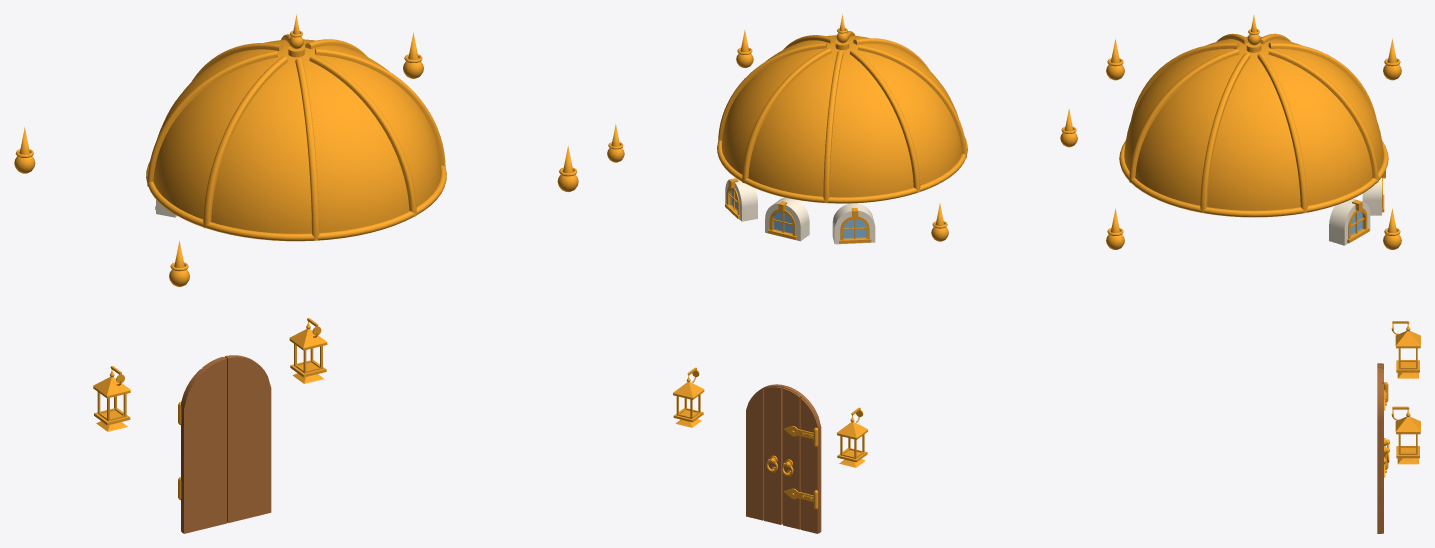
File: HaloDomeHouse_08_ornaments.glb
The picture shows the model from 3 angles, left to right: view 1: azimuth 30°, elevation 25°; view 2: azimuth 150°, elevation 25°; view 3: azimuth 270°, elevation 25°; orthographic projection. The views are drawn at different scales.
Visible parts, largest first — view 1: Orn_HaloDomeHouse_08_Dome, Orn_HaloDomeHouse_08_Dome_Ribs, Orn_HaloDomeHouse_08_Leaf0, Orn_HaloDomeHouse_08_Leaf1, Orn_HaloDomeHouse_08_Lantern0, Orn_HaloDomeHouse_08_Lantern1; view 2: Orn_HaloDomeHouse_08_Dome, Orn_HaloDomeHouse_08_Dome_Ribs, Orn_HaloDomeHouse_08_Leaf1, Orn_HaloDomeHouse_08_Leaf0, Orn_HaloDomeHouse_08_Lantern1, Orn_HaloDomeHouse_08_Lantern0, Orn_HaloDomeHouse_08_DrumWin1_Surround, Orn_HaloDomeHouse_08_DrumWin2_Surround, Orn_HaloDomeHouse_08_DrumWin0_Surround; view 3: Orn_HaloDomeHouse_08_Dome, Orn_HaloDomeHouse_08_Dome_Ribs, Orn_HaloDomeHouse_08_Leaf1, Orn_HaloDomeHouse_08_Lantern1, Orn_HaloDomeHouse_08_Lantern0, Orn_HaloDomeHouse_08_DrumWin0_Surround, Orn_HaloDomeHouse_08_DrumWin0_Frame, Orn_HaloDomeHouse_08_DrumWin1_Surround, Orn_HaloDomeHouse_08_Finial0, Orn_HaloDomeHouse_08_Finial3, Orn_HaloDomeHouse_08_Finial2, Orn_HaloDomeHouse_08_Finial1.
Part boxes in pixels (bbox=[...]): Orn_HaloDomeHouse_08_Dome: bbox=[146, 14, 446, 241]; Orn_HaloDomeHouse_08_Dome_Ribs: bbox=[147, 34, 445, 240]; Orn_HaloDomeHouse_08_Leaf0: bbox=[181, 356, 226, 533]; Orn_HaloDomeHouse_08_Leaf1: bbox=[225, 355, 271, 522]; Orn_HaloDomeHouse_08_Lantern0: bbox=[93, 366, 130, 431]; Orn_HaloDomeHouse_08_Lantern1: bbox=[289, 318, 327, 383]; Orn_HaloDomeHouse_08_Dome: bbox=[717, 14, 967, 203]; Orn_HaloDomeHouse_08_Dome_Ribs: bbox=[718, 31, 966, 202]; Orn_HaloDomeHouse_08_Leaf1: bbox=[746, 384, 784, 524]; Orn_HaloDomeHouse_08_Leaf0: bbox=[783, 385, 821, 533]; Orn_HaloDomeHouse_08_Lantern1: bbox=[673, 367, 704, 427]; Orn_HaloDomeHouse_08_Lantern0: bbox=[836, 407, 868, 467]; Orn_HaloDomeHouse_08_DrumWin1_Surround: bbox=[765, 197, 809, 241]; Orn_HaloDomeHouse_08_DrumWin2_Surround: bbox=[832, 203, 875, 244]; Orn_HaloDomeHouse_08_DrumWin0_Surround: bbox=[725, 178, 757, 221]; Orn_HaloDomeHouse_08_Dome: bbox=[1119, 15, 1388, 217]; Orn_HaloDomeHouse_08_Dome_Ribs: bbox=[1129, 33, 1378, 212]; Orn_HaloDomeHouse_08_Leaf1: bbox=[1377, 367, 1383, 533]; Orn_HaloDomeHouse_08_Lantern1: bbox=[1391, 406, 1420, 464]; Orn_HaloDomeHouse_08_Lantern0: bbox=[1391, 321, 1420, 378]; Orn_HaloDomeHouse_08_DrumWin0_Surround: bbox=[1329, 198, 1370, 245]; Orn_HaloDomeHouse_08_DrumWin0_Frame: bbox=[1347, 200, 1369, 243]; Orn_HaloDomeHouse_08_DrumWin1_Surround: bbox=[1362, 177, 1381, 215]; Orn_HaloDomeHouse_08_Finial0: bbox=[1383, 39, 1401, 80]; Orn_HaloDomeHouse_08_Finial3: bbox=[1383, 208, 1401, 249]; Orn_HaloDomeHouse_08_Finial2: bbox=[1106, 208, 1124, 249]; Orn_HaloDomeHouse_08_Finial1: bbox=[1106, 38, 1124, 80].
Bounding box in the file's own units: 19.9 × 26.15 × 14.9.
